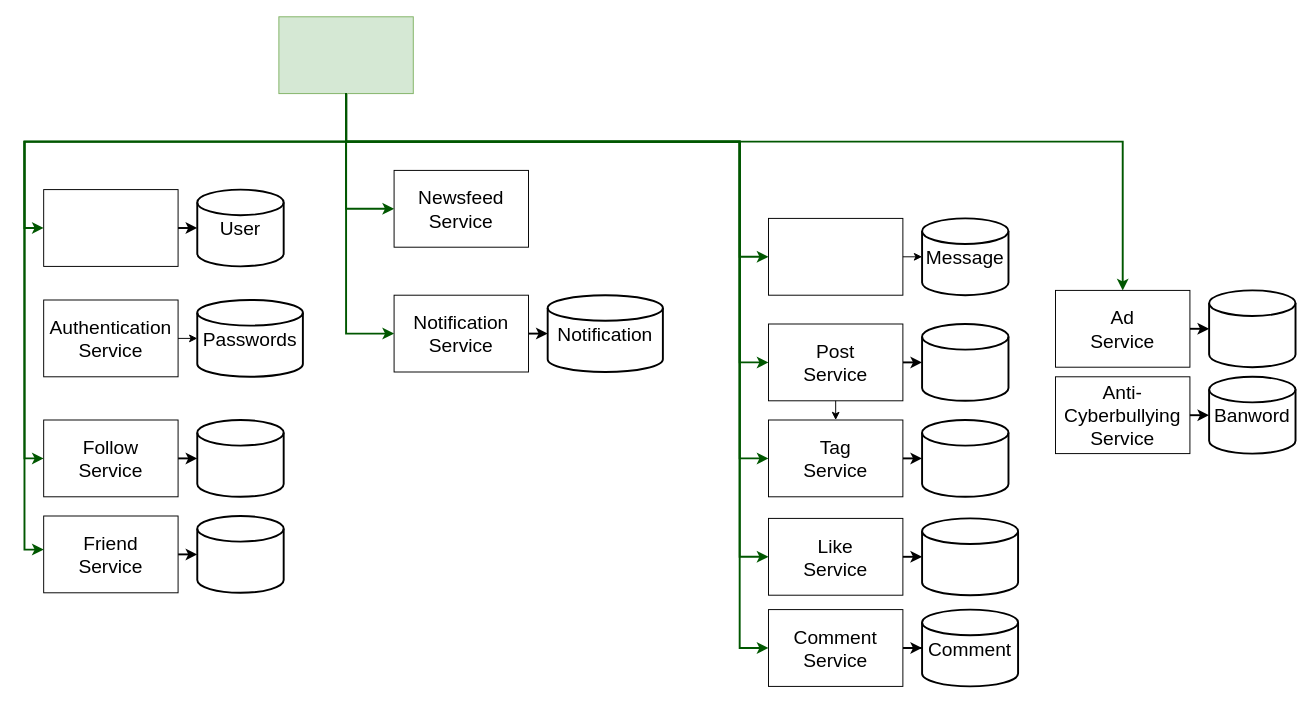
Image size: 1312x704. Some labels were removed from this diagram. Here are the shapes that lost their labels. From the top down, the box of each, then its label:
(278, 16, 413, 94): Frontend Service
(43, 189, 178, 266): User Service
(768, 217, 903, 295): Message Service
(1208, 289, 1296, 368): Ad
(921, 323, 1009, 401): Post
(196, 419, 284, 497): Follow
(921, 419, 1009, 497): Tag
(196, 515, 284, 593): Friend
(921, 517, 1019, 596): Like
